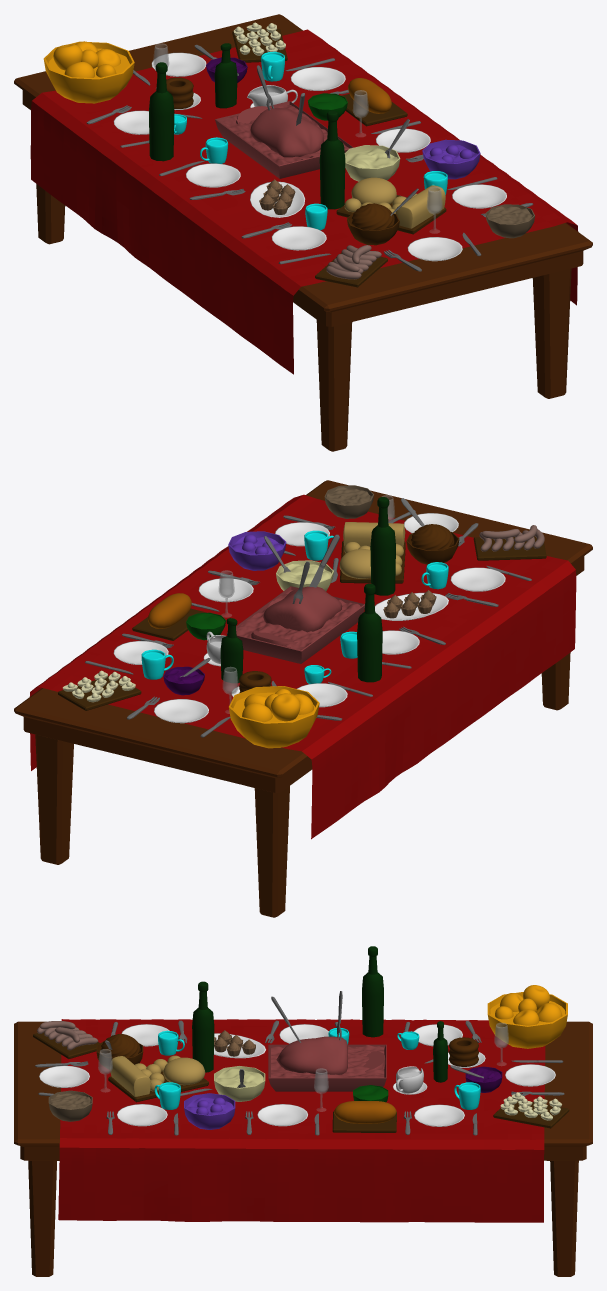
File: Dinner.fbx
3 renders of one model, top to bottom at view 1: azimuth 30°, elevation 25°; view 2: azimuth 150°, elevation 25°; view 3: azimuth 270°, elevation 25°, orthographic. The views are drawn at different scales.
Visible parts, largest first — view 1: polySurface16, polySurface17, pCylinder3, polySurface24, pCylinder37, pCylinder12, pCube2, pCube4, pCylinder36, pPlane5, polySurface32, pSphere28 (+24 smaller); view 2: polySurface16, polySurface17, polySurface24, pCylinder3, pCube2, pCylinder37, pCylinder12, pPlane5, pCylinder36, polySurface32, pSphere28, pSphere5 (+24 smaller); view 3: polySurface16, polySurface17, pCylinder3, polySurface24, pCube2, pCylinder37, pPlane5, pCylinder12, pSphere28, pCube4, polySurface32, pSphere19 (+24 smaller).
Part boxes in pixels (<box>): polySurface16: <box>30,29,578,374</box>; polySurface17: <box>14,14,592,451</box>; pCylinder3: <box>250,108,324,162</box>; polySurface24: <box>43,41,134,103</box>; pCylinder37: <box>149,62,174,161</box>; pCylinder12: <box>319,110,345,209</box>; pCube2: <box>215,101,353,178</box>; pCube4: <box>395,185,445,228</box>; pCylinder36: <box>214,43,237,108</box>; pPlane5: <box>219,105,348,165</box>; polySurface32: <box>422,139,480,179</box>; pSphere28: <box>348,78,391,113</box>; polySurface16: <box>29,494,576,839</box>; polySurface17: <box>14,480,592,917</box>; polySurface24: <box>228,686,319,748</box>; pCylinder3: <box>263,586,342,632</box>; pCube2: <box>226,586,364,663</box>; pCylinder37: <box>357,583,382,682</box>; pCylinder12: <box>370,497,395,595</box>; pPlane5: <box>236,590,360,650</box>; pCylinder36: <box>220,618,243,682</box>; polySurface32: <box>228,531,286,570</box>; pSphere28: <box>148,593,191,628</box>; pSphere5: <box>198,578,253,602</box>; polySurface16: <box>58,1019,545,1222</box>; polySurface17: <box>14,1021,592,1276</box>; pCylinder3: <box>276,1036,347,1077</box>; polySurface24: <box>487,992,567,1048</box>; pCube2: <box>268,1044,386,1091</box>; pCylinder37: <box>362,946,383,1037</box>; pPlane5: <box>271,1045,384,1077</box>; pCylinder12: <box>192,981,214,1072</box>; pSphere28: <box>334,1101,396,1123</box>; pCube4: <box>110,1056,151,1096</box>; polySurface32: <box>184,1093,235,1129</box>; pSphere19: <box>163,1057,205,1085</box>.
Size of the model in its own units: 20.37 by 17.1 by 38.83.
